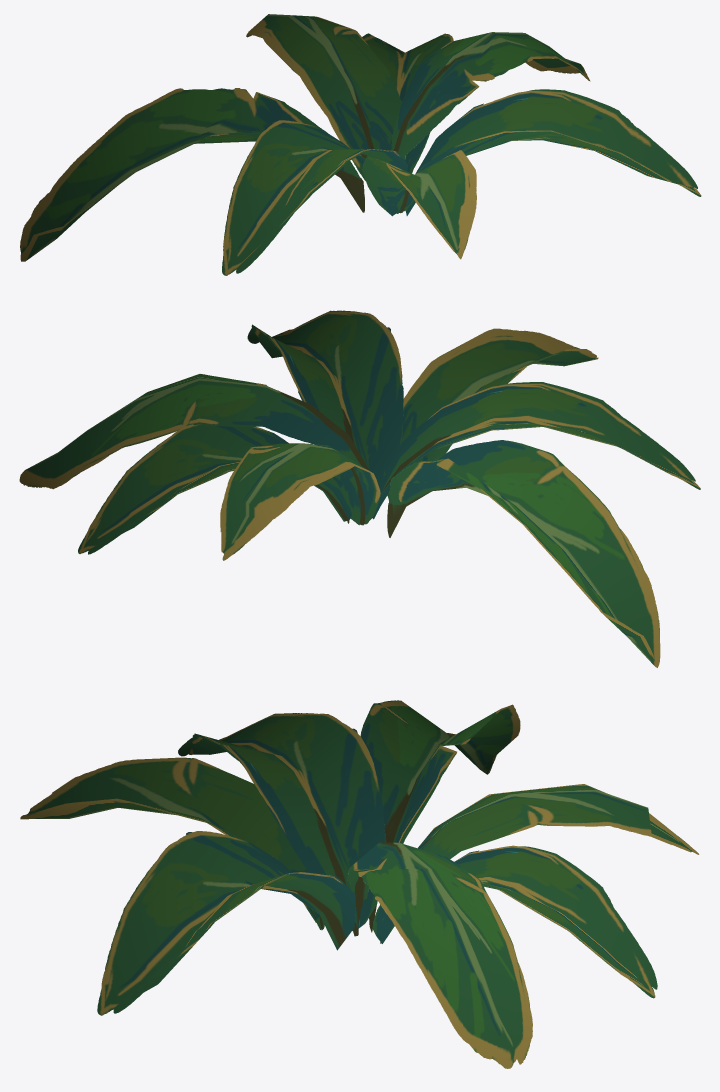
File: Bush_A.fbx
3 renders of one model, top to bottom at view 1: azimuth 30°, elevation 25°; view 2: azimuth 150°, elevation 25°; view 3: azimuth 270°, elevation 25°, orthographic. The views are drawn at different scales.
Parts seen in each view (by area): view 1: Brush.003; view 2: Brush.003; view 3: Brush.003.
Part boxes in pixels (x1,y1,x2,y2): Brush.003: (20, 14, 701, 275); Brush.003: (19, 310, 700, 667); Brush.003: (20, 700, 699, 1068).
Bounding box in the file's own units: 343 × 78.07 × 288.
